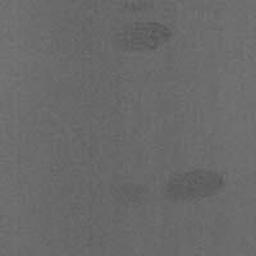Oil spot: (106, 168, 225, 210), (111, 0, 179, 54)
